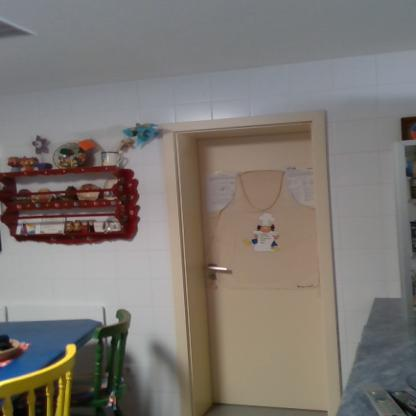door: (196, 140, 329, 407)
lever: (206, 262, 232, 274)
